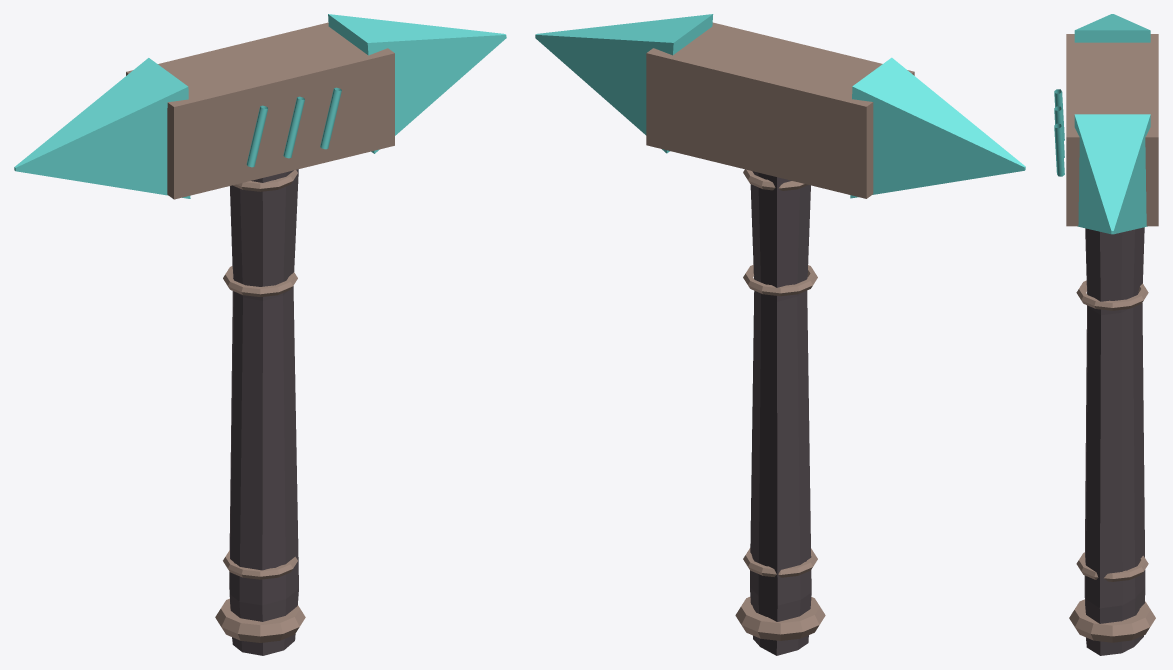
The model's file is BH_PICK_P22_Codigo_Fantasma_V01.glb.
3 renders of one model, left to right at view 1: azimuth 30°, elevation 25°; view 2: azimuth 150°, elevation 25°; view 3: azimuth 270°, elevation 25°, orthographic. The views are drawn at different scales.
Parts seen in each view (by area): view 1: Head | main crossbar.001, Handle | shaped shaft.001, Head | mining tooth L.001, Head | mining tooth R.001, Handle | pommel.001, Handle | binding 3.001, Handle | binding 1.001; view 2: Head | main crossbar.001, Handle | shaped shaft.001, Head | mining tooth L.001, Head | mining tooth R.001, Handle | pommel.001, Handle | binding 3.001, Handle | binding 1.001; view 3: Handle | shaped shaft.001, Head | main crossbar.001, Head | mining tooth R.001, Handle | pommel.001, Head | mining tooth L.001, Handle | binding 3.001, Handle | binding 1.001, Core | code trace 3.001, Core | code trace 2.001, Core | code trace 1.001.
Part boxes in pixels (x1,y1,x2,y2): Head | main crossbar.001: (126,22,394,199); Handle | shaped shaft.001: (229,169,298,655); Head | mining tooth L.001: (14,58,190,198); Head | mining tooth R.001: (328,14,506,153); Handle | pommel.001: (215,598,305,642); Handle | binding 3.001: (223,266,297,296); Handle | binding 1.001: (223,550,297,579); Head | main crossbar.001: (646,22,914,198); Handle | shaped shaft.001: (750,171,811,655); Head | mining tooth L.001: (850,57,1025,198); Head | mining tooth R.001: (535,14,713,153); Handle | pommel.001: (735,597,825,640); Handle | binding 3.001: (743,265,817,296); Handle | binding 1.001: (743,548,817,577); Handle | shaped shaft.001: (1084,227,1145,655); Head | main crossbar.001: (1066,34,1158,226); Head | mining tooth R.001: (1074,114,1150,234); Handle | pommel.001: (1069,599,1155,642); Head | mining tooth L.001: (1074,14,1150,42); Handle | binding 3.001: (1076,280,1148,310); Handle | binding 1.001: (1076,552,1148,581); Core | code trace 3.001: (1054,123,1064,176); Core | code trace 2.001: (1054,106,1064,157); Core | code trace 1.001: (1054,89,1064,140).
Bounding box in the file's own units: 2 × 2.31 × 0.3847.
